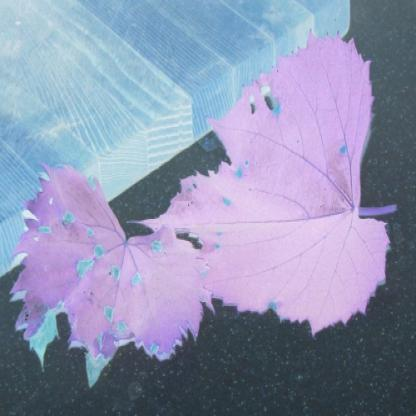grape leaf: (150, 32, 396, 342), (1, 174, 203, 400)
